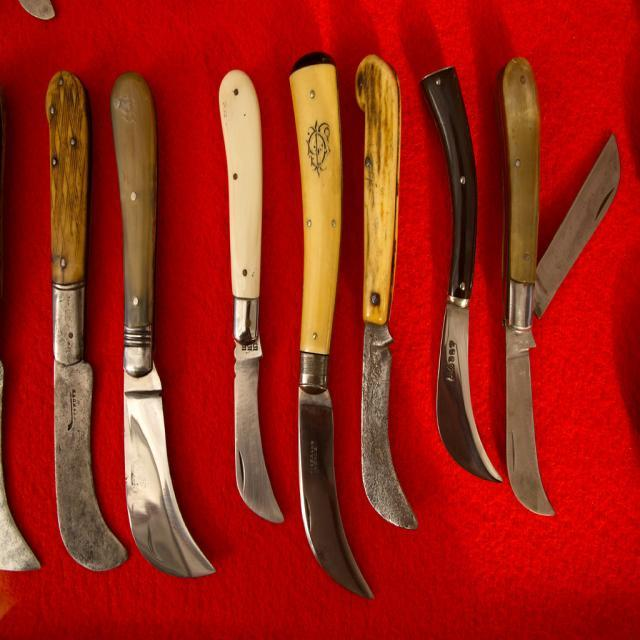Knife: (111, 72, 215, 577), (290, 54, 372, 598), (46, 71, 126, 570), (422, 68, 501, 481), (219, 70, 282, 522), (356, 55, 416, 528), (501, 58, 554, 516), (534, 134, 620, 317)
